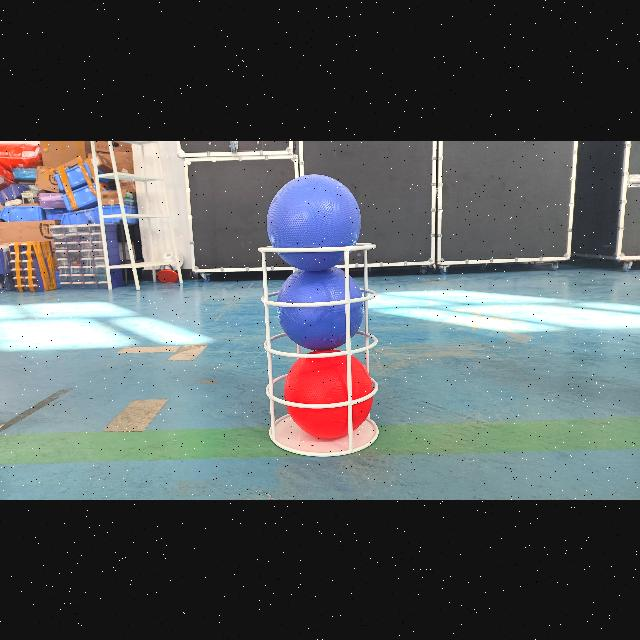B: (267, 172, 361, 272), (278, 264, 364, 350)
R: (285, 349, 373, 439)
S: (252, 238, 386, 456)
